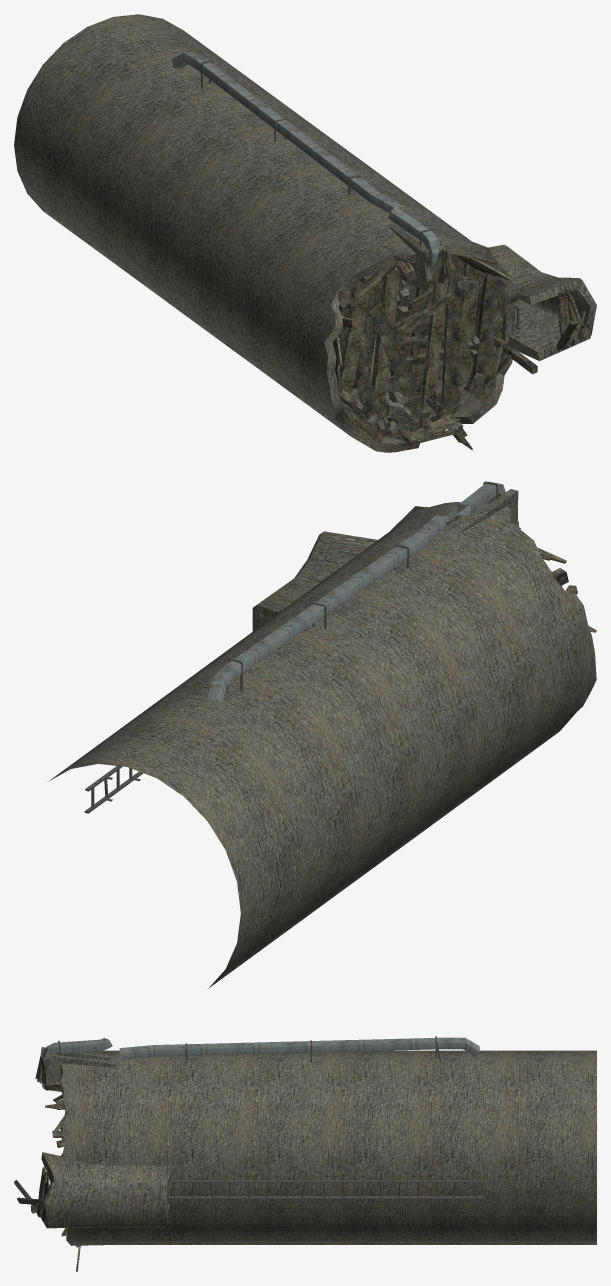
File: silo02.glb
The picture shows the model from 3 angles, top to bottom: view 1: azimuth 30°, elevation 25°; view 2: azimuth 150°, elevation 25°; view 3: azimuth 270°, elevation 25°; orthographic projection. The views are drawn at different scales.
Size of the model in its own units: 356 by 325 by 815.
5 materials, 5 textured.
